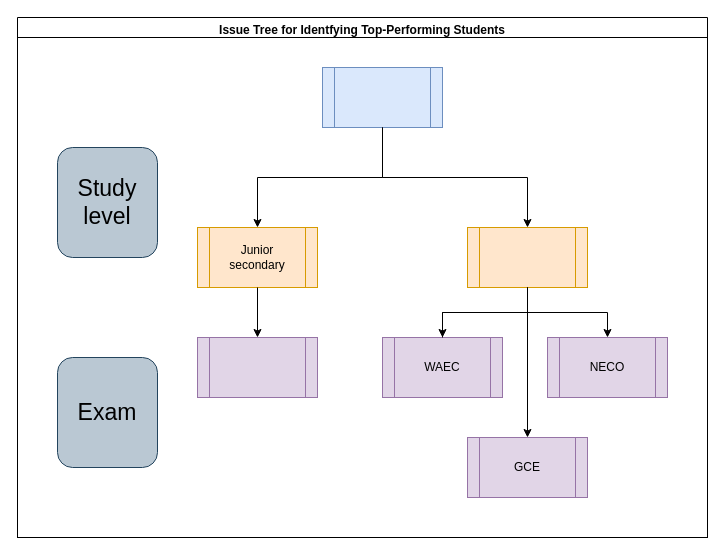
Some shapes in this 725 by 555 pixel diagram are drawn without their labels. Each missing label, with the centre of its shape:
JSCE: point (257, 367)
Senior secondary: point (527, 257)
Top-performing students: point (382, 97)
